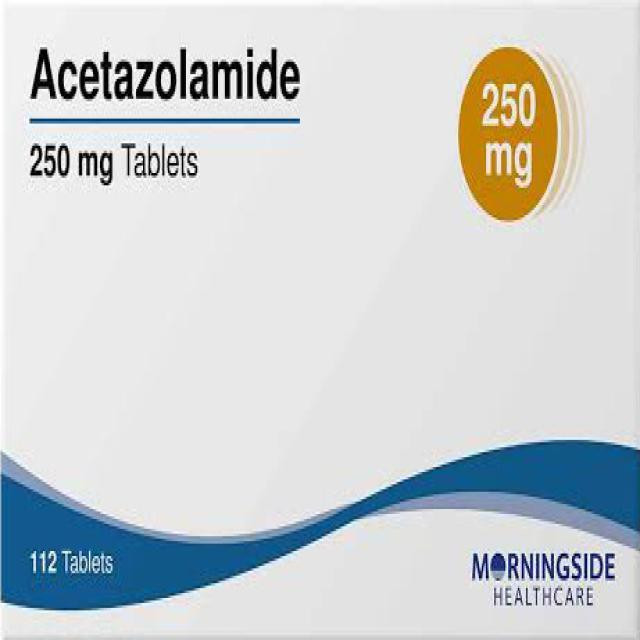drug-name: (27, 42, 300, 110)
